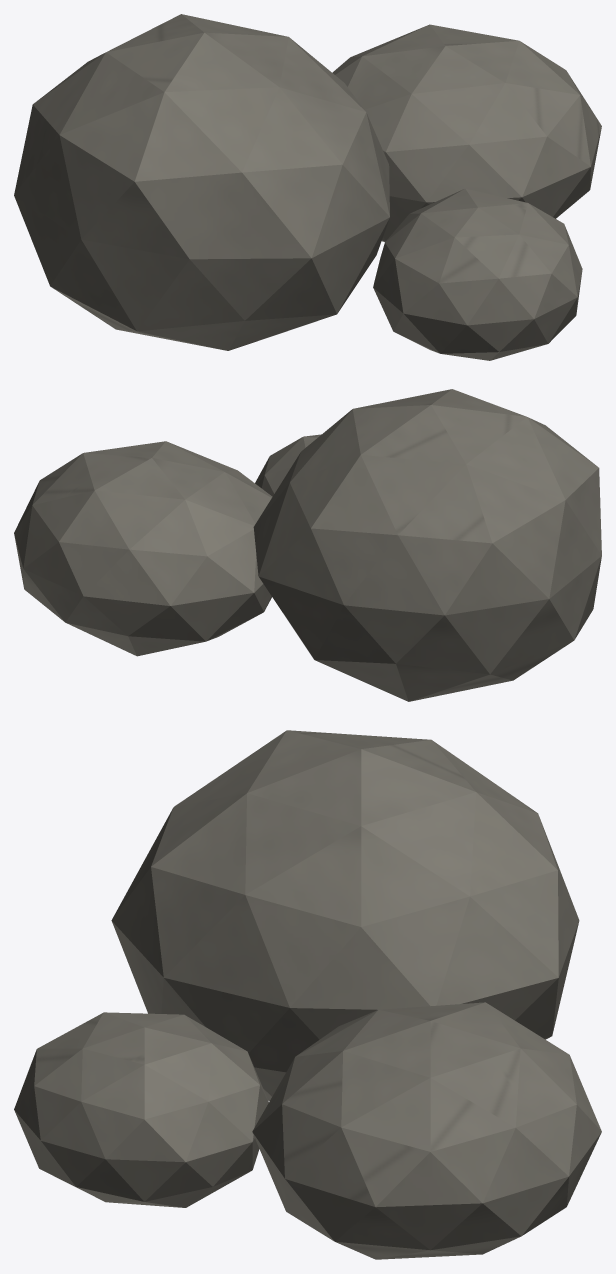
The model's file is Furn_Rock_Small.fbx.
The picture shows the model from 3 angles, top to bottom: view 1: azimuth 30°, elevation 25°; view 2: azimuth 150°, elevation 25°; view 3: azimuth 270°, elevation 25°; orthographic projection. The views are drawn at different scales.
Parts seen in each view (by area): view 1: Furn_Rock_Small_Mesh; view 2: Furn_Rock_Small_Mesh; view 3: Furn_Rock_Small_Mesh.
Part boxes in pixels (x1,y1,x2,y2): Furn_Rock_Small_Mesh: [14, 14, 601, 360]; Furn_Rock_Small_Mesh: [14, 389, 601, 701]; Furn_Rock_Small_Mesh: [14, 730, 601, 1259].
Size of the model in its own units: 0.9 by 0.45 by 0.7.
Materials: 1 (1 with a texture image).
